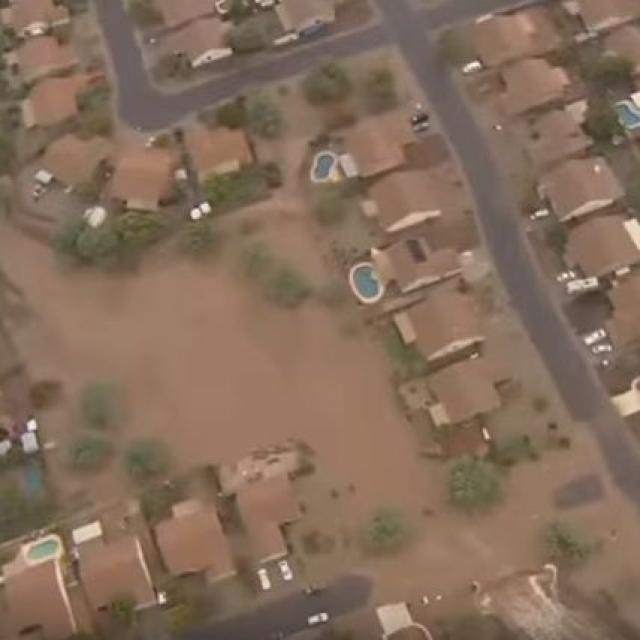flooded_areas: (3, 205, 568, 606)
